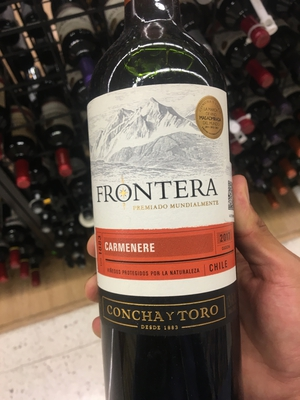frontera carmenere: (78, 47, 252, 400)
